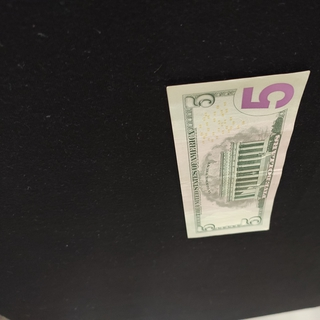5USDBack: (166, 69, 311, 239)
